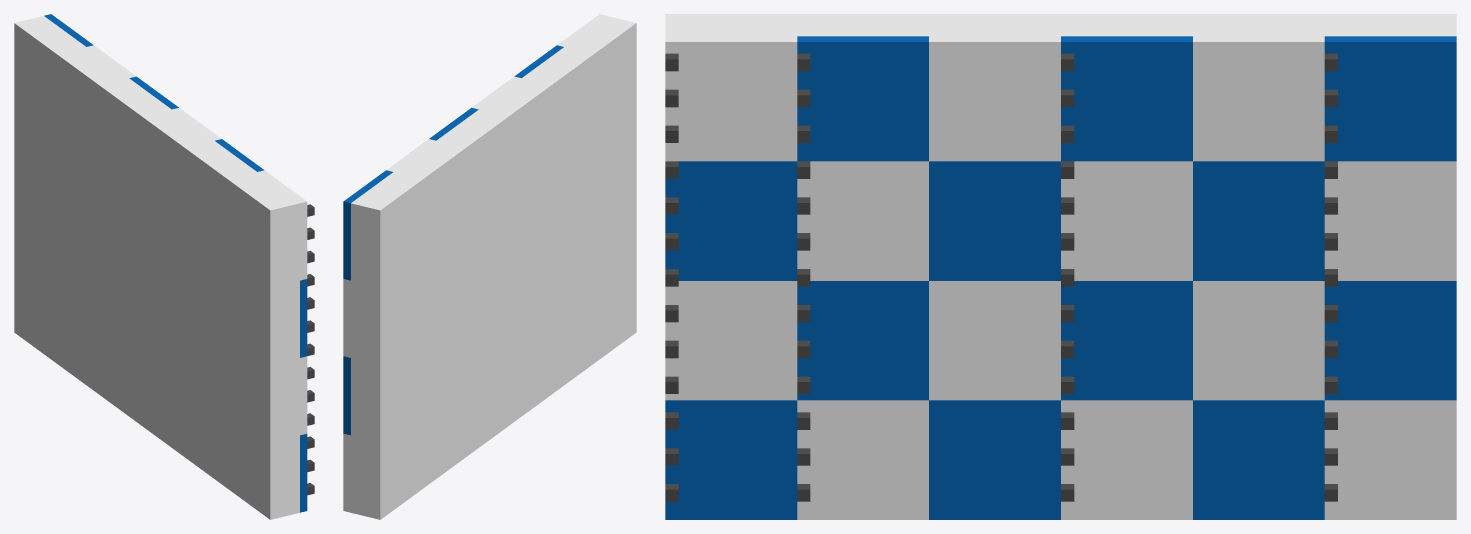
File: Wall2.fbx
3 views of the same model, side by side, from view 1: azimuth 30°, elevation 25°; view 2: azimuth 150°, elevation 25°; view 3: azimuth 270°, elevation 25° (orthographic). The views are drawn at different scales.
Parts seen in each view (by area): view 1: Stage_Wall_2:Mesh; view 2: Stage_Wall_2:Mesh; view 3: Stage_Wall_2:Mesh.
Boxes of the visible parts, x1,y1,x2,y2 form: Stage_Wall_2:Mesh: (14,14,314,519); Stage_Wall_2:Mesh: (343,14,636,519); Stage_Wall_2:Mesh: (665,14,1456,519).
Size of the model in its own units: 6 by 40 by 60.
Materials: 1 (1 with a texture image).
